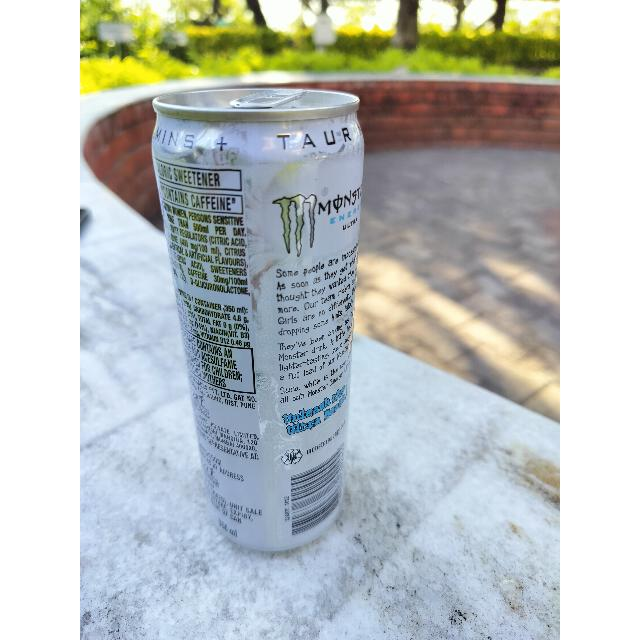White Monster: (132, 74, 390, 558)
